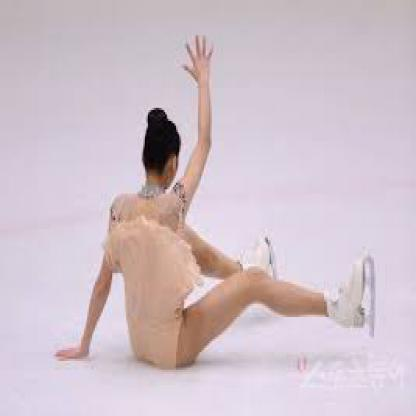Fall_Down: (55, 32, 367, 368)
